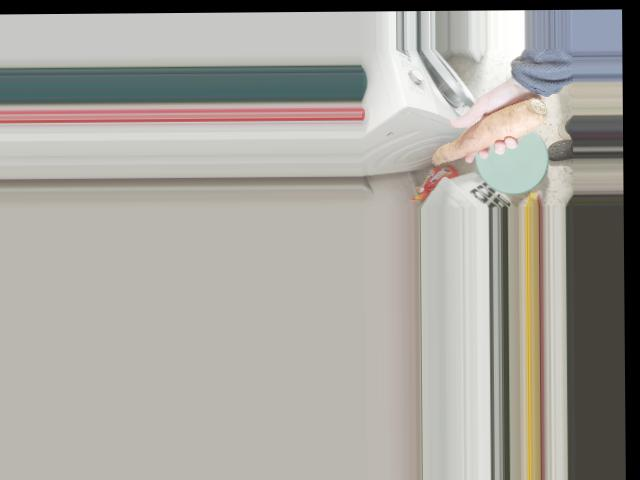sweet_potato: (422, 94, 549, 170)
